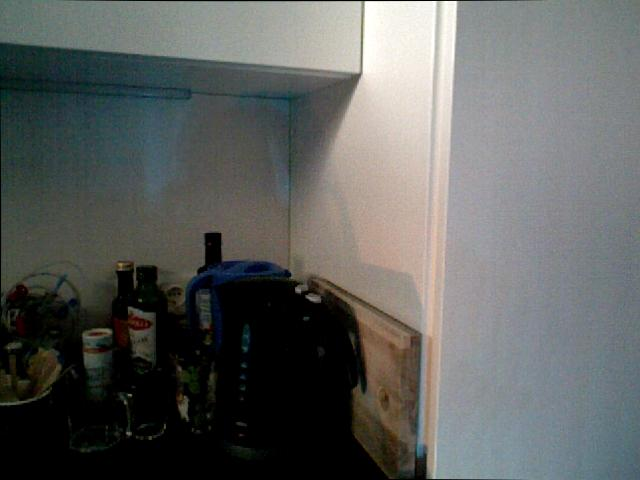bench: (174, 225, 232, 363), (126, 264, 168, 375), (107, 258, 140, 363)
handbag: (56, 361, 132, 450), (0, 353, 53, 460), (171, 341, 219, 440), (121, 367, 180, 441)
hot dog: (420, 0, 640, 480)
